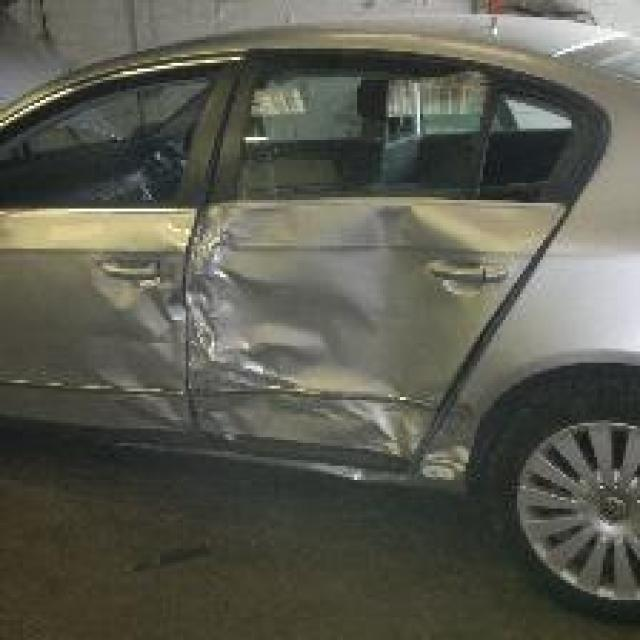damaged: (92, 208, 494, 494)
